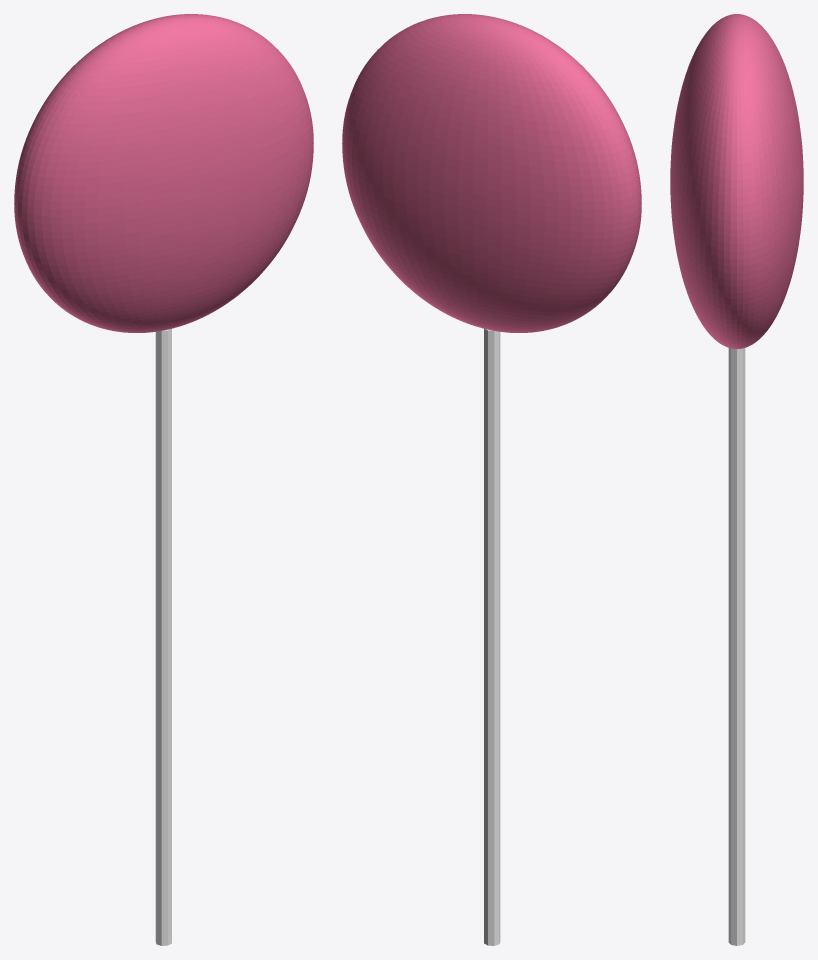
Rendered from pin.obj.
The picture shows the model from 3 angles, left to right: view 1: azimuth 30°, elevation 25°; view 2: azimuth 150°, elevation 25°; view 3: azimuth 270°, elevation 25°; orthographic projection.
Size of the model in its own units: 0.1988 by 0.6 by 0.0795.
2 materials, 2 textured.
